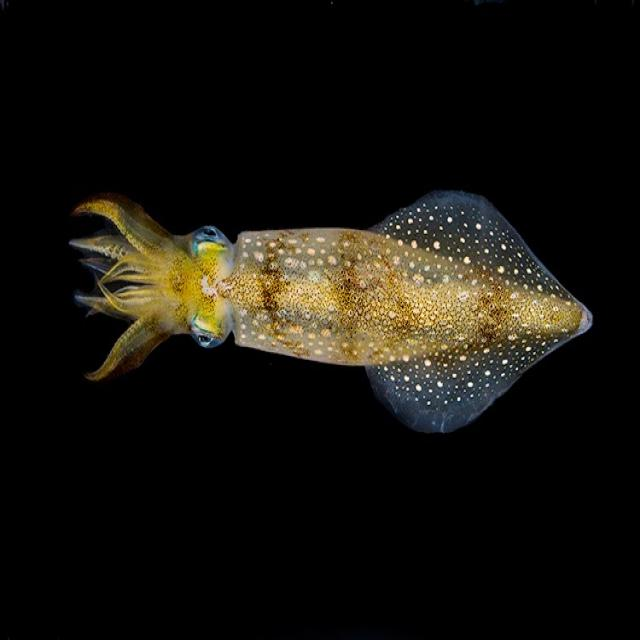SQUID: (46, 175, 619, 424)
